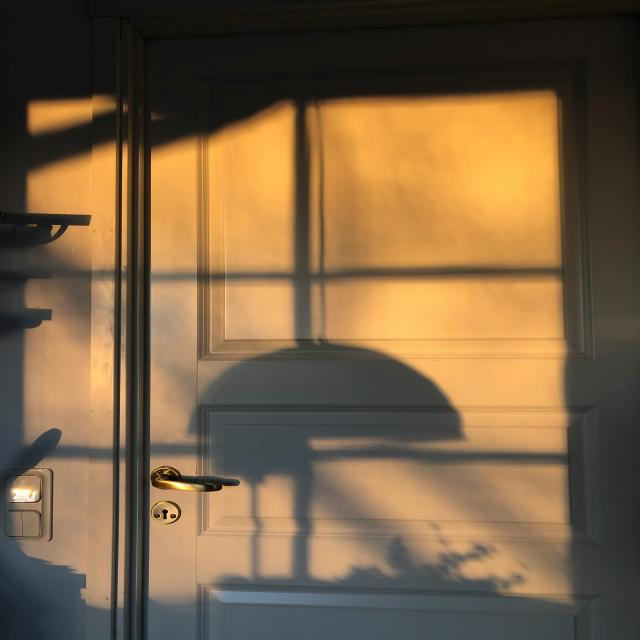door-handle: (151, 466, 222, 492)
